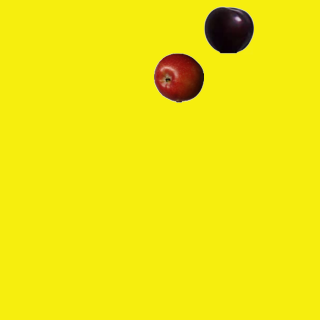Apple Braeburn: (153, 52, 203, 102)
Cherry Wax Black: (203, 4, 253, 54)
